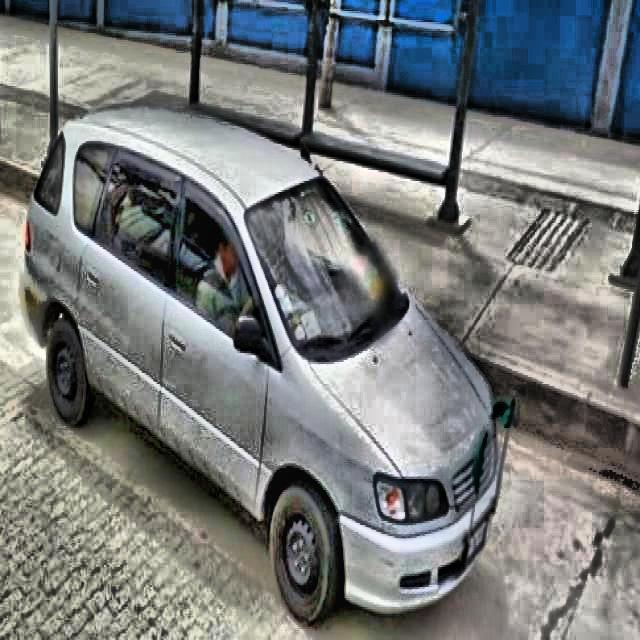carro: (19, 95, 504, 625)
